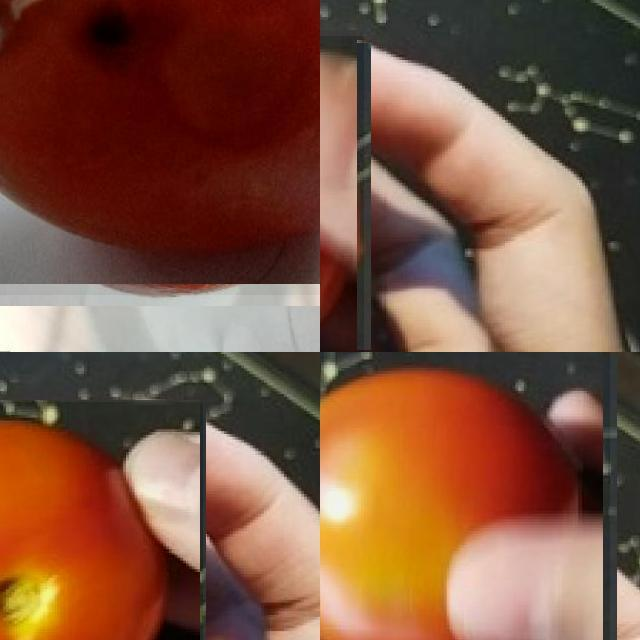Fresh Tomato: (320, 352, 610, 640), (0, 402, 203, 640)
Rotten Tomato: (0, 0, 320, 295)
